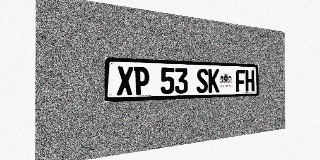3: (175, 68, 188, 94)
5: (161, 67, 174, 94)
F: (236, 70, 245, 92)
H: (245, 70, 254, 91)
K: (208, 69, 219, 93)
P: (134, 67, 149, 95)
S: (196, 68, 208, 93)
X: (117, 66, 133, 96)
